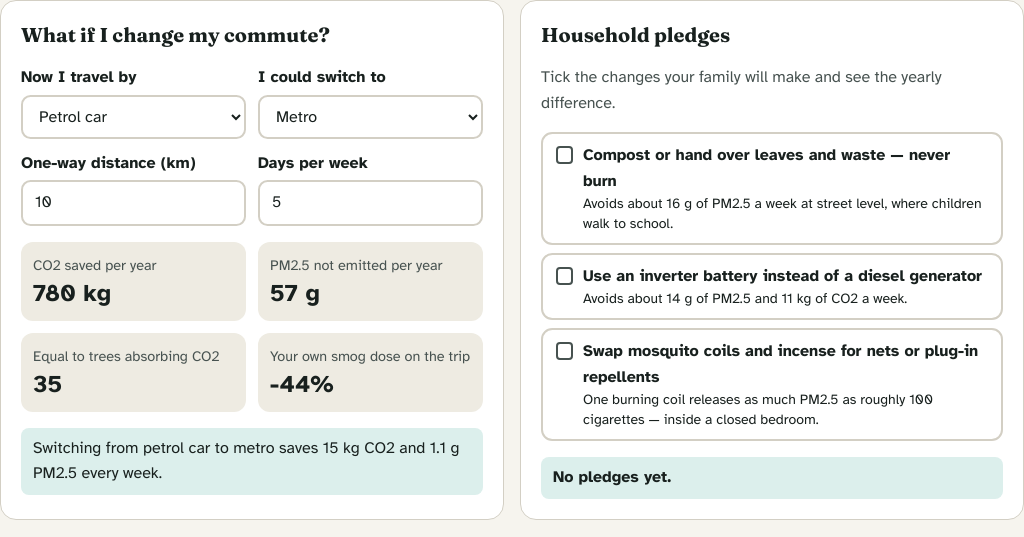
Scenario: ImpactCalculator › clamps odd input and starts from a car for people who do not commute
Expected: the dropdown labelled "Now I travel by" shows "Petrol car", [21,95,246,139]
Replace the text in the number field labelled "Days per week" with "99" at (370, 203), box [258,180,483,226]
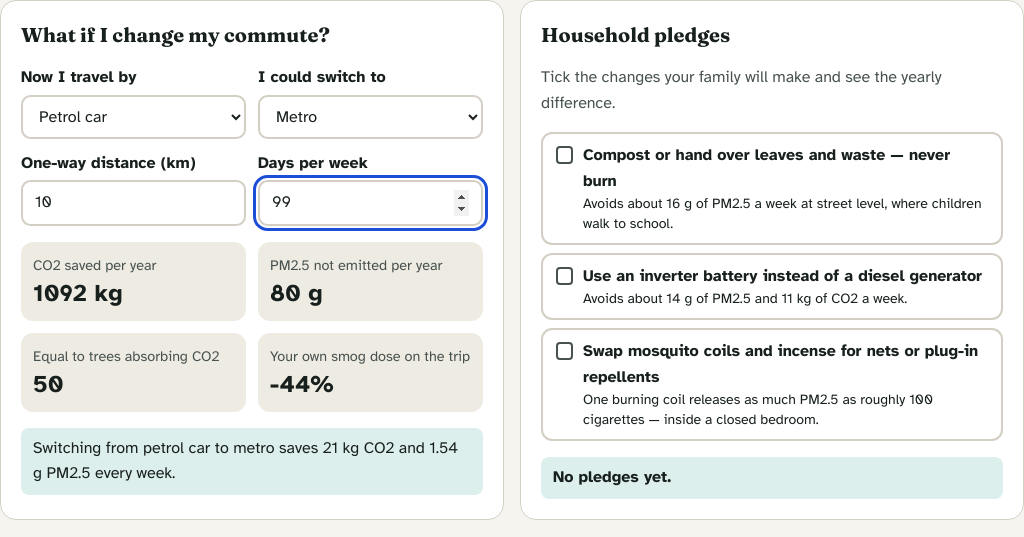
Clear the number field labelled "One-way distance (km)" at (134, 203), box [21,180,246,226]
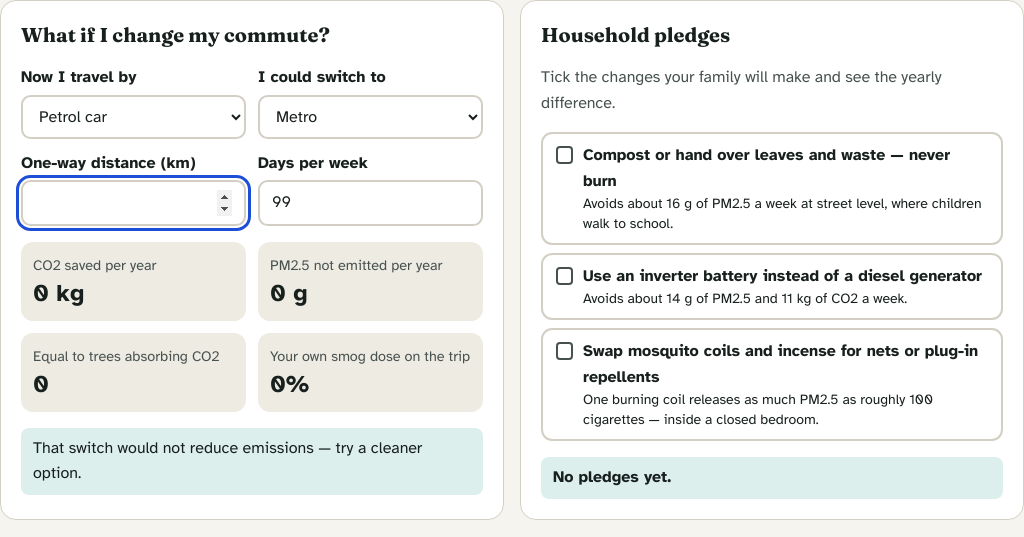
Expected: the text "0 kg" is shown, [33,278,84,308]
